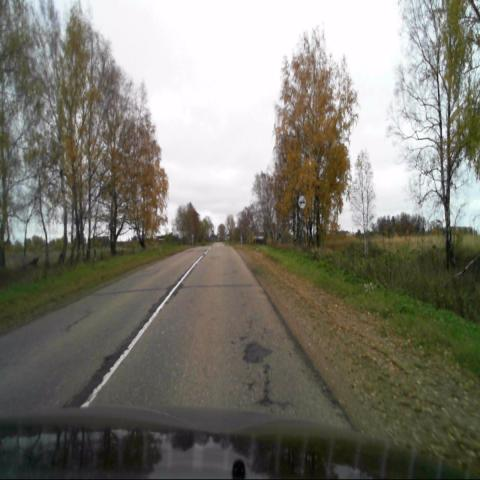3_21: (298, 195, 306, 209)
